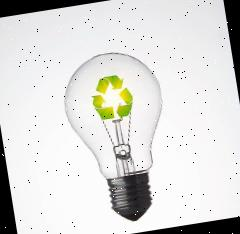lightbulb: (56, 45, 179, 228)
